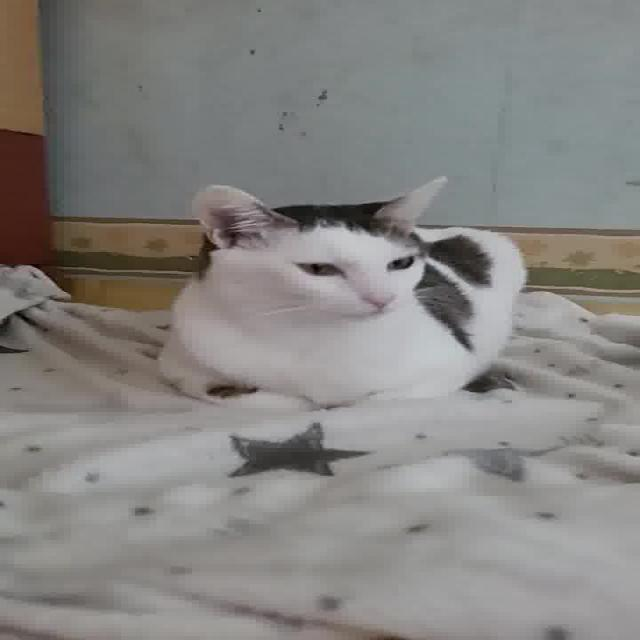cat: (157, 173, 532, 423)
